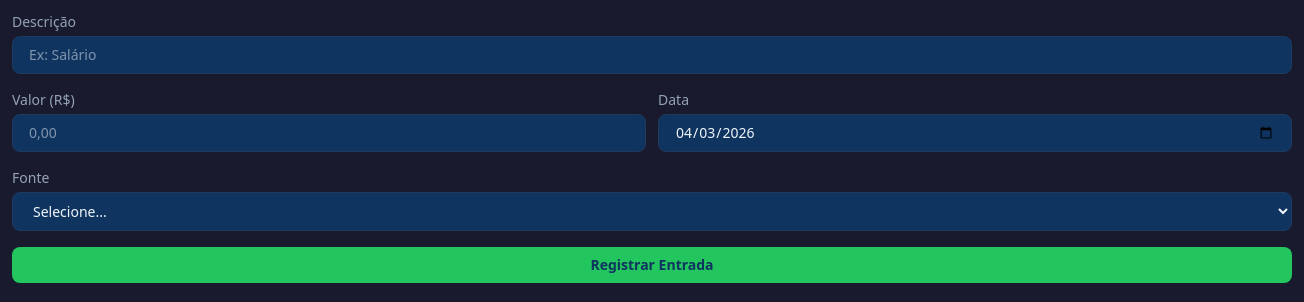
Test case: FormularioEntrada — submit › limpa descrição e valor após submit
Type "Salário" into the field labelled "Descrição" at (652, 55), box [12,36,1292,74]
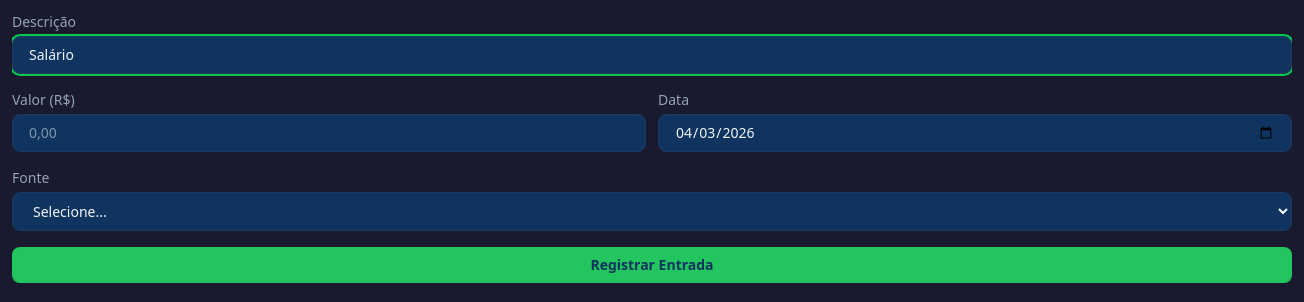
Type "3000" into the number field labelled "Valor (R$)" at (329, 133), box [12,114,646,152]
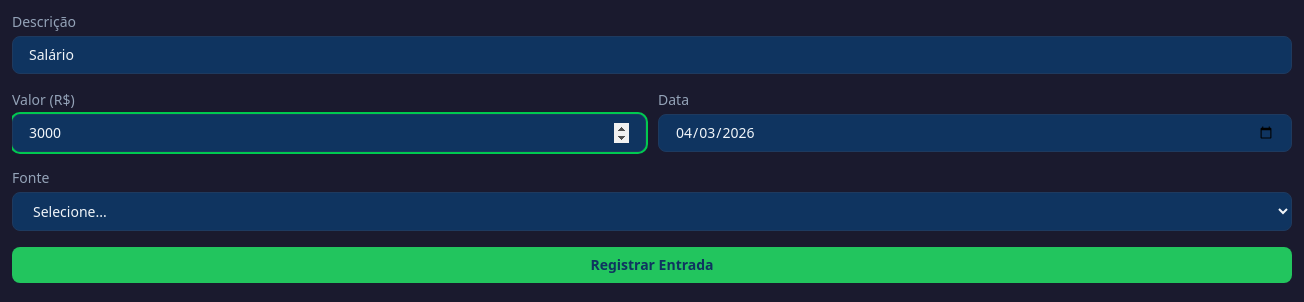
Select "Salário" in the dropdown labelled "Fonte" at (652, 212), box [12,192,1292,231]
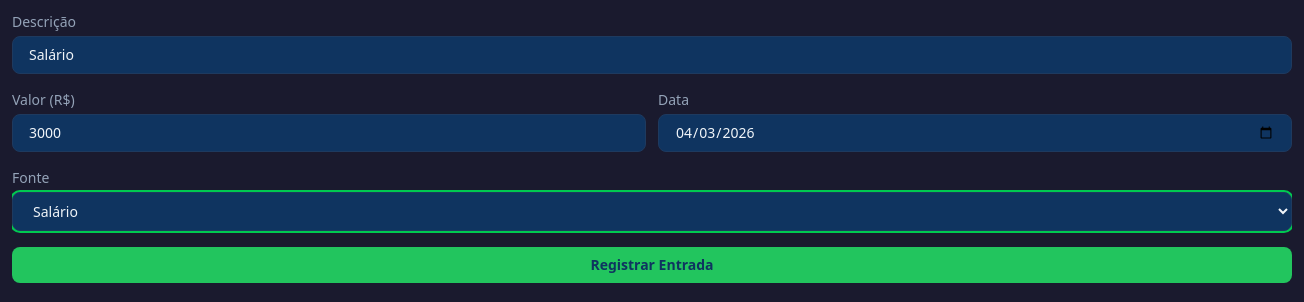
Click the button "Registrar Entrada" at (652, 265), box [12,247,1292,283]
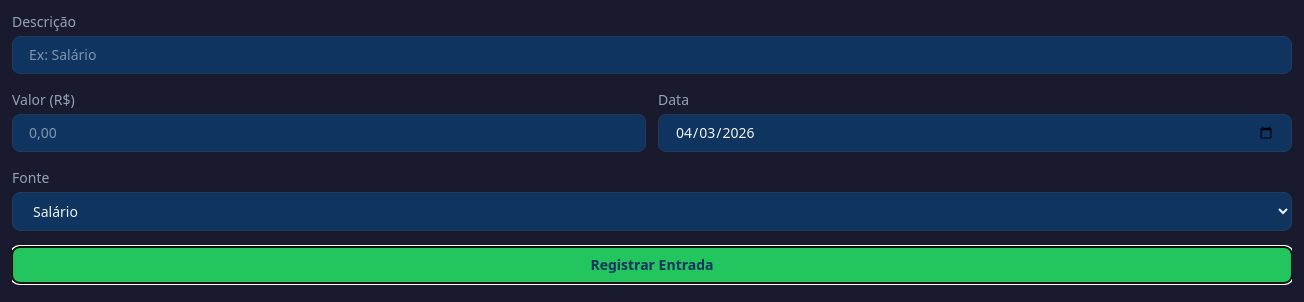
Expected: the field labelled "Descrição" is empty, [12,36,1292,74]
Expected: the number field labelled "Valor (R$)" is not empty, [12,114,646,152]
